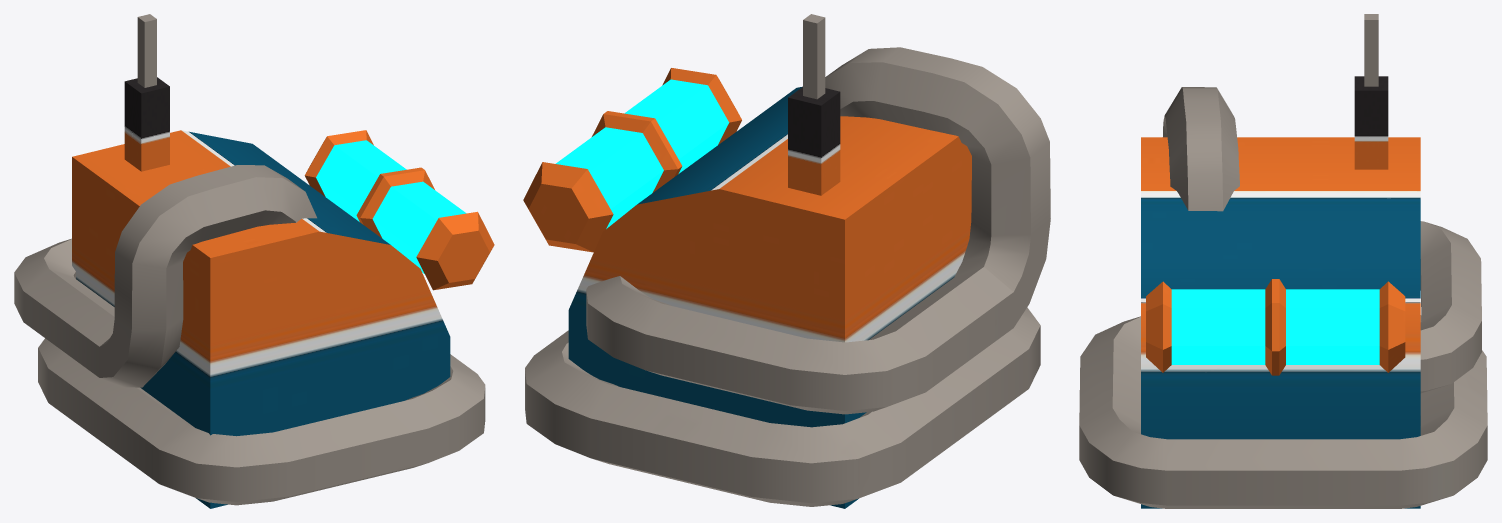
File: GeradorEnergia.fbx
3 renders of one model, left to right at view 1: azimuth 30°, elevation 25°; view 2: azimuth 150°, elevation 25°; view 3: azimuth 270°, elevation 25°, orthographic. The views are drawn at different scales.
Visible parts, largest first — view 1: geradorEnergia; view 2: geradorEnergia; view 3: geradorEnergia.
Part boxes in pixels (left/top/right/bottom): geradorEnergia: left=14, top=14, right=494, bottom=508; geradorEnergia: left=523, top=14, right=1050, bottom=508; geradorEnergia: left=1079, top=14, right=1487, bottom=508.
Bounding box in the file's own units: 97.61 × 103 × 95.93.
